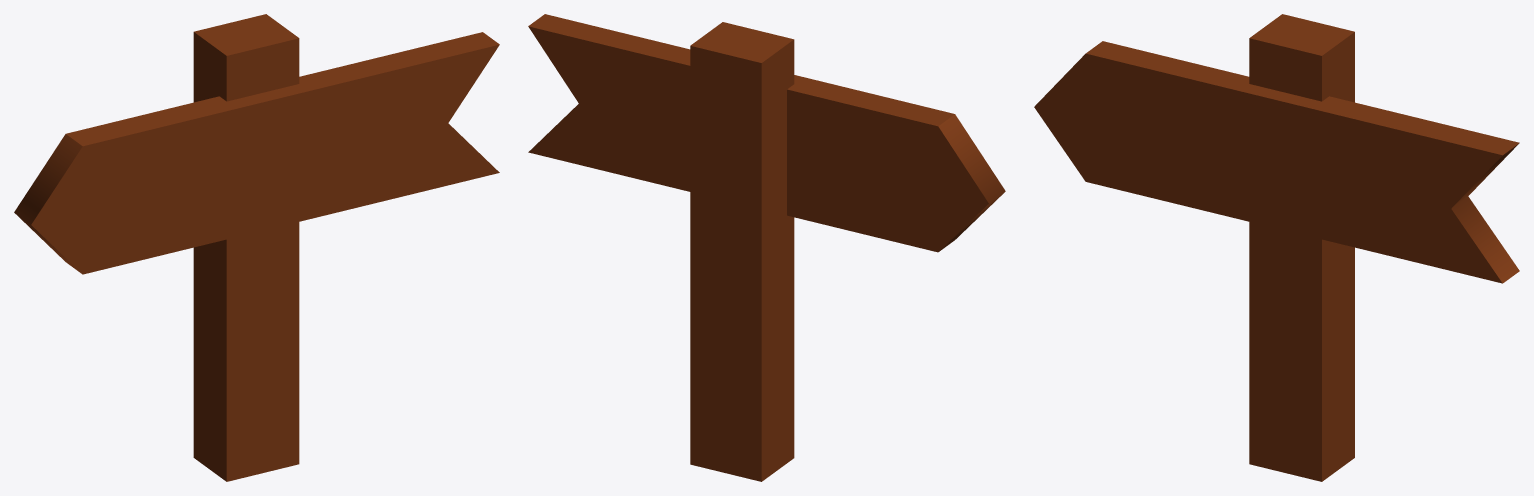
Rendered from road sign.FBX.
3 views of the same model, side by side, from view 1: azimuth 30°, elevation 25°; view 2: azimuth 150°, elevation 25°; view 3: azimuth 330°, elevation 25° (orthographic).
Visible parts, largest first — view 1: road sign; view 2: road sign; view 3: road sign.
Boxes of the visible parts, left/top/right/bottom form: road sign: left=14, top=14, right=499, bottom=481; road sign: left=528, top=14, right=1005, bottom=481; road sign: left=1034, top=14, right=1519, bottom=481.
Bounding box in the file's own units: 790 × 686 × 125.
